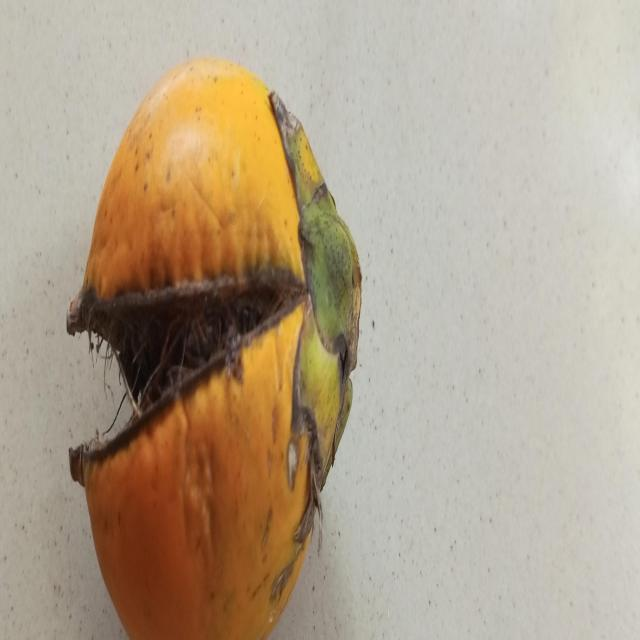damaged: (67, 57, 361, 640)
